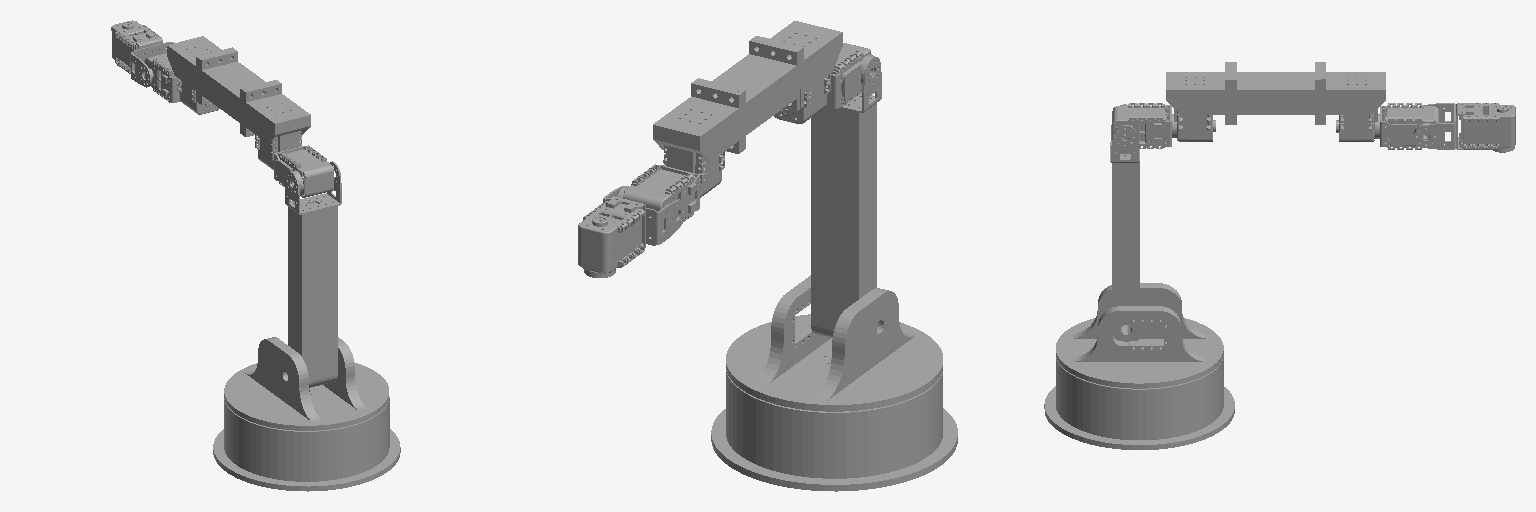
--- Render facts (derived) ---
3 views of the same robot in one strip: view 1: azimuth 30°, elevation 25°; view 2: azimuth 150°, elevation 25°; view 3: azimuth 270°, elevation 25° (orthographic).
Robot: mvp_arm_v2_sim — 23 links, 22 joints (7 continuous, 15 fixed); root link base_link; default pose: every joint at zero.
Links seen in each view (by area): view 1: base_link, Rotating_Base__1___1__1, Arm_segment_2_1, Arm_Segment_80mm__1__1, Elbow_Connector__1__1, AX-12A_Servo_4_1, Wrist_Connector__1__1, f2Bracket__1__2, AX-12A_Servo_1, AX-12A_Servo_5_1, f2Bracket__1___1__1, AX-12A_Servo_2_1 (+1 smaller); view 2: base_link, Rotating_Base__1___1__1, Arm_segment_2_1, Arm_Segment_80mm__1__1, Wrist_Connector__1__1, AX-12A_Servo_1, Elbow_Connector__1__1, AX-12A_Servo_2_1, AX-12A_Servo_3_1, f2Bracket__1___1__1, AX-12A_Servo_4_1, f2Bracket__1__2 (+1 smaller); view 3: Rotating_Base__1___1__1, base_link, Arm_segment_2_1, Arm_Segment_80mm__1__1, Elbow_Connector__1__1, Wrist_Connector__1__1, AX-12A_Servo_1, AX-12A_Servo_4_1, AX-12A_Servo_2_1, f2Bracket__1___1__1, AX-12A_Servo_3_1, AX-12A_Servo_5_1 (+1 smaller).
Boxes of the visible links, <box> form: base_link: <box>213,397,400,491</box>; Rotating_Base__1___1__1: <box>224,337,388,430</box>; Arm_segment_2_1: <box>288,202,337,387</box>; Arm_Segment_80mm__1__1: <box>199,50,278,134</box>; Elbow_Connector__1__1: <box>243,82,310,142</box>; AX-12A_Servo_4_1: <box>277,145,333,197</box>; Wrist_Connector__1__1: <box>167,36,234,102</box>; f2Bracket__1__2: <box>285,161,341,214</box>; AX-12A_Servo_1: <box>111,20,161,73</box>; AX-12A_Servo_5_1: <box>255,131,301,169</box>; f2Bracket__1___1__1: <box>130,42,173,87</box>; AX-12A_Servo_2_1: <box>145,53,175,102</box>; base_link: <box>711,370,957,491</box>; Rotating_Base__1___1__1: <box>726,275,942,411</box>; Arm_segment_2_1: <box>811,103,876,337</box>; Arm_Segment_80mm__1__1: <box>695,38,800,151</box>; Wrist_Connector__1__1: <box>653,81,742,161</box>; AX-12A_Servo_1: <box>578,199,644,273</box>; Elbow_Connector__1__1: <box>754,21,842,108</box>; AX-12A_Servo_2_1: <box>623,164,696,230</box>; AX-12A_Servo_3_1: <box>663,145,725,197</box>; f2Bracket__1___1__1: <box>603,186,685,245</box>; AX-12A_Servo_4_1: <box>831,43,872,108</box>; f2Bracket__1__2: <box>840,56,881,112</box>; Rotating_Base__1___1__1: <box>1056,283,1223,388</box>; base_link: <box>1044,356,1234,449</box>; Arm_segment_2_1: <box>1112,162,1139,341</box>; Arm_Segment_80mm__1__1: <box>1231,62,1320,124</box>; Elbow_Connector__1__1: <box>1166,62,1230,124</box>; Wrist_Connector__1__1: <box>1321,62,1385,124</box>; AX-12A_Servo_1: <box>1459,103,1515,149</box>; AX-12A_Servo_4_1: <box>1112,103,1168,148</box>; AX-12A_Servo_2_1: <box>1383,103,1438,149</box>; f2Bracket__1___1__1: <box>1414,103,1455,149</box>; AX-12A_Servo_3_1: <box>1336,108,1377,141</box>; AX-12A_Servo_5_1: <box>1174,109,1215,141</box>.
Size in the robot's own frame: 0.17 by 0.42 by 0.3336 metres.
23 mesh visuals loaded from 23 distinct referenced files (23 binary STL).

URDF robot description (mvp_arm_v2_sim):
<?xml version="1.0" encoding="utf-8"?>
<!-- =================================================================================== -->
<!-- |    This document was autogenerated by xacro from mvp_arm_v2_sim.xacro           | -->
<!-- |    EDITING THIS FILE BY HAND IS NOT RECOMMENDED                                 | -->
<!-- =================================================================================== -->
<robot name="mvp_arm_v2_sim">
  <material name="silver">
    <color rgba="0.700 0.700 0.700 1.000"/>
  </material>
  <transmission name="Rev7_tran">
    <type>transmission_interface/SimpleTransmission</type>
    <joint name="Rev7">
      <hardwareInterface>hardware_interface/EffortJointInterface</hardwareInterface>
    </joint>
    <actuator name="Rev7_actr">
      <hardwareInterface>hardware_interface/EffortJointInterface</hardwareInterface>
      <mechanicalReduction>1</mechanicalReduction>
    </actuator>
  </transmission>
  <transmission name="Rev6_tran">
    <type>transmission_interface/SimpleTransmission</type>
    <joint name="Rev6">
      <hardwareInterface>hardware_interface/EffortJointInterface</hardwareInterface>
    </joint>
    <actuator name="Rev6_actr">
      <hardwareInterface>hardware_interface/EffortJointInterface</hardwareInterface>
      <mechanicalReduction>1</mechanicalReduction>
    </actuator>
  </transmission>
  <transmission name="Rev5_tran">
    <type>transmission_interface/SimpleTransmission</type>
    <joint name="Rev5">
      <hardwareInterface>hardware_interface/EffortJointInterface</hardwareInterface>
    </joint>
    <actuator name="Rev5_actr">
      <hardwareInterface>hardware_interface/EffortJointInterface</hardwareInterface>
      <mechanicalReduction>1</mechanicalReduction>
    </actuator>
  </transmission>
  <transmission name="Rev4_tran">
    <type>transmission_interface/SimpleTransmission</type>
    <joint name="Rev4">
      <hardwareInterface>hardware_interface/EffortJointInterface</hardwareInterface>
    </joint>
    <actuator name="Rev4_actr">
      <hardwareInterface>hardware_interface/EffortJointInterface</hardwareInterface>
      <mechanicalReduction>1</mechanicalReduction>
    </actuator>
  </transmission>
  <transmission name="Rev3_tran">
    <type>transmission_interface/SimpleTransmission</type>
    <joint name="Rev3">
      <hardwareInterface>hardware_interface/EffortJointInterface</hardwareInterface>
    </joint>
    <actuator name="Rev3_actr">
      <hardwareInterface>hardware_interface/EffortJointInterface</hardwareInterface>
      <mechanicalReduction>1</mechanicalReduction>
    </actuator>
  </transmission>
  <transmission name="Rev2_tran">
    <type>transmission_interface/SimpleTransmission</type>
    <joint name="Rev2">
      <hardwareInterface>hardware_interface/EffortJointInterface</hardwareInterface>
    </joint>
    <actuator name="Rev2_actr">
      <hardwareInterface>hardware_interface/EffortJointInterface</hardwareInterface>
      <mechanicalReduction>1</mechanicalReduction>
    </actuator>
  </transmission>
  <transmission name="Rev1_tran">
    <type>transmission_interface/SimpleTransmission</type>
    <joint name="Rev1">
      <hardwareInterface>hardware_interface/EffortJointInterface</hardwareInterface>
    </joint>
    <actuator name="Rev1_actr">
      <hardwareInterface>hardware_interface/EffortJointInterface</hardwareInterface>
      <mechanicalReduction>1</mechanicalReduction>
    </actuator>
  </transmission>
  <gazebo>
    <plugin filename="libgazebo_ros_control.so" name="control"/>
  </gazebo>
  <gazebo reference="base_link">
    <material>Gazebo/Silver</material>
    <mu1>0.2</mu1>
    <mu2>0.2</mu2>
    <selfCollide>true</selfCollide>
    <gravity>true</gravity>
  </gazebo>
  <gazebo reference="Spinny_Thing_On_Servo_1">
    <material>Gazebo/Silver</material>
    <mu1>0.2</mu1>
    <mu2>0.2</mu2>
    <selfCollide>true</selfCollide>
  </gazebo>
  <gazebo reference="AX-12A_Servo_1">
    <material>Gazebo/Silver</material>
    <mu1>0.2</mu1>
    <mu2>0.2</mu2>
    <selfCollide>true</selfCollide>
  </gazebo>
  <gazebo reference="Spinny_Thing_On_Servo_2_1">
    <material>Gazebo/Silver</material>
    <mu1>0.2</mu1>
    <mu2>0.2</mu2>
    <selfCollide>true</selfCollide>
  </gazebo>
  <gazebo reference="AX-12A_Servo_2_1">
    <material>Gazebo/Silver</material>
    <mu1>0.2</mu1>
    <mu2>0.2</mu2>
    <selfCollide>true</selfCollide>
  </gazebo>
  <gazebo reference="AX-12A_Servo_3_1">
    <material>Gazebo/Silver</material>
    <mu1>0.2</mu1>
    <mu2>0.2</mu2>
    <selfCollide>true</selfCollide>
  </gazebo>
  <gazebo reference="Spinny_Thing_On_Servo_3_1">
    <material>Gazebo/Silver</material>
    <mu1>0.2</mu1>
    <mu2>0.2</mu2>
    <selfCollide>true</selfCollide>
  </gazebo>
  <gazebo reference="Bottom_Connector__1__1">
    <material>Gazebo/Silver</material>
    <mu1>0.2</mu1>
    <mu2>0.2</mu2>
    <selfCollide>true</selfCollide>
  </gazebo>
  <gazebo reference="AX-12A_Servo_5_1">
    <material>Gazebo/Silver</material>
    <mu1>0.2</mu1>
    <mu2>0.2</mu2>
    <selfCollide>true</selfCollide>
  </gazebo>
  <gazebo reference="Bottom_Connector__2__1">
    <material>Gazebo/Silver</material>
    <mu1>0.2</mu1>
    <mu2>0.2</mu2>
    <selfCollide>true</selfCollide>
  </gazebo>
  <gazebo reference="Spinny_Thing_On_Servo_5_1">
    <material>Gazebo/Silver</material>
    <mu1>0.2</mu1>
    <mu2>0.2</mu2>
    <selfCollide>true</selfCollide>
  </gazebo>
  <gazebo reference="AX-12A_Servo_4_1">
    <material>Gazebo/Silver</material>
    <mu1>0.2</mu1>
    <mu2>0.2</mu2>
    <selfCollide>true</selfCollide>
  </gazebo>
  <gazebo reference="Bottom_Connector_Bracket_4_1">
    <material>Gazebo/Silver</material>
    <mu1>0.2</mu1>
    <mu2>0.2</mu2>
    <selfCollide>true</selfCollide>
  </gazebo>
  <gazebo reference="Wrist_Connector__1__1">
    <material>Gazebo/Silver</material>
    <mu1>0.2</mu1>
    <mu2>0.2</mu2>
    <selfCollide>true</selfCollide>
  </gazebo>
  <gazebo reference="Arm_Segment_80mm__1__1">
    <material>Gazebo/Silver</material>
    <mu1>0.2</mu1>
    <mu2>0.2</mu2>
    <selfCollide>true</selfCollide>
  </gazebo>
  <gazebo reference="Bottom_Connector_Bracket_3_1">
    <material>Gazebo/Silver</material>
    <mu1>0.2</mu1>
    <mu2>0.2</mu2>
    <selfCollide>true</selfCollide>
  </gazebo>
  <gazebo reference="Elbow_Connector__1__1">
    <material>Gazebo/Silver</material>
    <mu1>0.2</mu1>
    <mu2>0.2</mu2>
    <selfCollide>true</selfCollide>
  </gazebo>
  <gazebo reference="Spinny_Thing_On_Servo_4_1">
    <material>Gazebo/Silver</material>
    <mu1>0.2</mu1>
    <mu2>0.2</mu2>
    <selfCollide>true</selfCollide>
  </gazebo>
  <gazebo reference="f2Bracket__1__2">
    <material>Gazebo/Silver</material>
    <mu1>0.2</mu1>
    <mu2>0.2</mu2>
    <selfCollide>true</selfCollide>
  </gazebo>
  <gazebo reference="Arm_segment_2_1">
    <material>Gazebo/Silver</material>
    <mu1>0.2</mu1>
    <mu2>0.2</mu2>
    <selfCollide>true</selfCollide>
  </gazebo>
  <gazebo reference="Rotating_Base__1___1__1">
    <material>Gazebo/Silver</material>
    <mu1>0.2</mu1>
    <mu2>0.2</mu2>
    <selfCollide>true</selfCollide>
  </gazebo>
  <gazebo reference="f2Bracket__1___1__1">
    <material>Gazebo/Silver</material>
    <mu1>0.2</mu1>
    <mu2>0.2</mu2>
    <selfCollide>true</selfCollide>
  </gazebo>
  <gazebo reference="Bottom_Connector_1">
    <material>Gazebo/Silver</material>
    <mu1>0.2</mu1>
    <mu2>0.2</mu2>
    <selfCollide>true</selfCollide>
  </gazebo>
  <link name="base_link">
    <inertial>
      <origin rpy="0 0 0" xyz="0.003139221237424357 0.007112092878934391 0.09744651147654458"/>
      <mass value="0.2255222028913783"/>
      <inertia ixx="0.000624" ixy="0.0" ixz="0.0" iyy="0.000615" iyz="1e-06" izz="0.001121"/>
    </inertial>
    <visual>
      <origin rpy="0 0 0" xyz="0 0 0"/>
      <geometry>
        <mesh filename="package://mvp_arm_v2_sim_description/meshes/base_link.stl" scale="0.001 0.001 0.001"/>
      </geometry>
      <material name="silver"/>
    </visual>
    <collision>
      <origin rpy="0 0 0" xyz="0 0 0"/>
      <geometry>
        <mesh filename="package://mvp_arm_v2_sim_description/meshes/base_link.stl" scale="0.001 0.001 0.001"/>
      </geometry>
    </collision>
  </link>
  <link name="Spinny_Thing_On_Servo_1">
    <inertial>
      <origin rpy="0 0 0" xyz="2.010053463885565e-05 -1.259502991068917e-06 -0.002248960573131231"/>
      <mass value="0.012286224598738087"/>
      <inertia ixx="0.0" ixy="-0.0" ixz="-0.0" iyy="0.0" iyz="0.0" izz="1e-06"/>
    </inertial>
    <visual>
      <origin rpy="0 0 0" xyz="-0.003026 -0.329964 -0.337601"/>
      <geometry>
        <mesh filename="package://mvp_arm_v2_sim_description/meshes/Spinny_Thing_On_Servo_1.stl" scale="0.001 0.001 0.001"/>
      </geometry>
      <material name="silver"/>
    </visual>
    <collision>
      <origin rpy="0 0 0" xyz="-0.003026 -0.329964 -0.337601"/>
      <geometry>
        <mesh filename="package://mvp_arm_v2_sim_description/meshes/Spinny_Thing_On_Servo_1.stl" scale="0.001 0.001 0.001"/>
      </geometry>
    </collision>
  </link>
  <link name="AX-12A_Servo_1">
    <inertial>
      <origin rpy="0 0 0" xyz="-0.006844397716463661 0.019372363950331595 -0.017899908655313768"/>
      <mass value="0.32411536495008075"/>
      <inertia ixx="9.1e-05" ixy="0.0" ixz="0.0" iyy="5e-05" iyz="-1e-06" izz="7.9e-05"/>
    </inertial>
    <visual>
      <origin rpy="0 0 0" xyz="-0.009733 -0.297485 -0.371223"/>
      <geometry>
        <mesh filename="package://mvp_arm_v2_sim_description/meshes/AX-12A_Servo_1.stl" scale="0.001 0.001 0.001"/>
      </geometry>
      <material name="silver"/>
    </visual>
    <collision>
      <origin rpy="0 0 0" xyz="-0.009733 -0.297485 -0.371223"/>
      <geometry>
        <mesh filename="package://mvp_arm_v2_sim_description/meshes/AX-12A_Servo_1.stl" scale="0.001 0.001 0.001"/>
      </geometry>
    </collision>
  </link>
  <link name="Spinny_Thing_On_Servo_2_1">
    <inertial>
      <origin rpy="0 0 0" xyz="0.002248723852282898 1.0899252977925045e-07 1.9672056998709664e-05"/>
      <mass value="0.012286224598738087"/>
      <inertia ixx="1e-06" ixy="0.0" ixz="0.0" iyy="0.0" iyz="0.0" izz="0.0"/>
    </inertial>
    <visual>
      <origin rpy="0 0 0" xyz="-0.019384 -0.261974 -0.354035"/>
      <geometry>
        <mesh filename="package://mvp_arm_v2_sim_description/meshes/Spinny_Thing_On_Servo_2_1.stl" scale="0.001 0.001 0.001"/>
      </geometry>
      <material name="silver"/>
    </visual>
    <collision>
      <origin rpy="0 0 0" xyz="-0.019384 -0.261974 -0.354035"/>
      <geometry>
        <mesh filename="package://mvp_arm_v2_sim_description/meshes/Spinny_Thing_On_Servo_2_1.stl" scale="0.001 0.001 0.001"/>
      </geometry>
    </collision>
  </link>
  <link name="AX-12A_Servo_2_1">
    <inertial>
      <origin rpy="0 0 0" xyz="-0.015394349743787807 0.022878705562556806 -0.00814884451855008"/>
      <mass value="0.32411536495008075"/>
      <inertia ixx="7.9e-05" ixy="2e-06" ixz="-0.0" iyy="5e-05" iyz="0.0" izz="9.1e-05"/>
    </inertial>
    <visual>
      <origin rpy="0 0 0" xyz="-0.019064 -0.225979 -0.362054"/>
      <geometry>
        <mesh filename="package://mvp_arm_v2_sim_description/meshes/AX-12A_Servo_2_1.stl" scale="0.001 0.001 0.001"/>
      </geometry>
      <material name="silver"/>
    </visual>
    <collision>
      <origin rpy="0 0 0" xyz="-0.019064 -0.225979 -0.362054"/>
      <geometry>
        <mesh filename="package://mvp_arm_v2_sim_description/meshes/AX-12A_Servo_2_1.stl" scale="0.001 0.001 0.001"/>
      </geometry>
    </collision>
  </link>
  <link name="AX-12A_Servo_3_1">
    <inertial>
      <origin rpy="0 0 0" xyz="0.008692941406935287 -0.016872496794597514 -0.01929838841732684"/>
      <mass value="0.32411536495008075"/>
      <inertia ixx="9.1e-05" ixy="0.0" ixz="0.0" iyy="7.9e-05" iyz="-2e-06" izz="5e-05"/>
    </inertial>
    <visual>
      <origin rpy="0 0 0" xyz="0.005672 -0.21714 -0.386345"/>
      <geometry>
        <mesh filename="package://mvp_arm_v2_sim_description/meshes/AX-12A_Servo_3_1.stl" scale="0.001 0.001 0.001"/>
      </geometry>
      <material name="silver"/>
    </visual>
    <collision>
      <origin rpy="0 0 0" xyz="0.005672 -0.21714 -0.386345"/>
      <geometry>
        <mesh filename="package://mvp_arm_v2_sim_description/meshes/AX-12A_Servo_3_1.stl" scale="0.001 0.001 0.001"/>
      </geometry>
    </collision>
  </link>
  <link name="Spinny_Thing_On_Servo_3_1">
    <inertial>
      <origin rpy="0 0 0" xyz="-3.354762194564091e-07 0.0022492825643248837 -1.1344660777456994e-06"/>
      <mass value="0.012286224598738087"/>
      <inertia ixx="0.0" ixy="-0.0" ixz="0.0" iyy="1e-06" iyz="-0.0" izz="0.0"/>
    </inertial>
    <visual>
      <origin rpy="0 0 0" xyz="-0.003135 -0.215974 -0.353921"/>
      <geometry>
        <mesh filename="package://mvp_arm_v2_sim_description/meshes/Spinny_Thing_On_Servo_3_1.stl" scale="0.001 0.001 0.001"/>
      </geometry>
      <material name="silver"/>
    </visual>
    <collision>
      <origin rpy="0 0 0" xyz="-0.003135 -0.215974 -0.353921"/>
      <geometry>
        <mesh filename="package://mvp_arm_v2_sim_description/meshes/Spinny_Thing_On_Servo_3_1.stl" scale="0.001 0.001 0.001"/>
      </geometry>
    </collision>
  </link>
  <link name="Bottom_Connector__1__1">
    <inertial>
      <origin rpy="0 0 0" xyz="0.007999664523551065 0.0018414055268290708 6.837536046383486e-05"/>
      <mass value="0.0016262220015435807"/>
      <inertia ixx="0.0" ixy="-0.0" ixz="-0.0" iyy="0.0" iyz="-0.0" izz="0.0"/>
    </inertial>
    <visual>
      <origin rpy="0 0 0" xyz="0.004865 -0.220474 -0.353849"/>
      <geometry>
        <mesh filename="package://mvp_arm_v2_sim_description/meshes/Bottom_Connector__1__1.stl" scale="0.001 0.001 0.001"/>
      </geometry>
      <material name="silver"/>
    </visual>
    <collision>
      <origin rpy="0 0 0" xyz="0.004865 -0.220474 -0.353849"/>
      <geometry>
        <mesh filename="package://mvp_arm_v2_sim_description/meshes/Bottom_Connector__1__1.stl" scale="0.001 0.001 0.001"/>
      </geometry>
    </collision>
  </link>
  <link name="AX-12A_Servo_5_1">
    <inertial>
      <origin rpy="0 0 0" xyz="-2.5065005857449404e-07 0.01572277873113477 0.013106537518999761"/>
      <mass value="0.32411536495008075"/>
      <inertia ixx="9.1e-05" ixy="-0.0" ixz="-0.0" iyy="7.9e-05" iyz="1e-06" izz="5e-05"/>
    </inertial>
    <visual>
      <origin rpy="0 0 0" xyz="-0.002332 -0.039577 -0.354023"/>
      <geometry>
        <mesh filename="package://mvp_arm_v2_sim_description/meshes/AX-12A_Servo_5_1.stl" scale="0.001 0.001 0.001"/>
      </geometry>
      <material name="silver"/>
    </visual>
    <collision>
      <origin rpy="0 0 0" xyz="-0.002332 -0.039577 -0.354023"/>
      <geometry>
        <mesh filename="package://mvp_arm_v2_sim_description/meshes/AX-12A_Servo_5_1.stl" scale="0.001 0.001 0.001"/>
      </geometry>
    </collision>
  </link>
  <link name="Bottom_Connector__2__1">
    <inertial>
      <origin rpy="0 0 0" xyz="0.008000486205254101 0.016001930051550324 0.003648509599558425"/>
      <mass value="0.0016262220015435807"/>
      <inertia ixx="0.0" ixy="0.0" ixz="-0.0" iyy="0.0" iyz="0.0" izz="0.0"/>
    </inertial>
    <visual>
      <origin rpy="0 0 0" xyz="0.005668 -0.039849 -0.390023"/>
      <geometry>
        <mesh filename="package://mvp_arm_v2_sim_description/meshes/Bottom_Connector__2__1.stl" scale="0.001 0.001 0.001"/>
      </geometry>
      <material name="silver"/>
    </visual>
    <collision>
      <origin rpy="0 0 0" xyz="0.005668 -0.039849 -0.390023"/>
      <geometry>
        <mesh filename="package://mvp_arm_v2_sim_description/meshes/Bottom_Connector__2__1.stl" scale="0.001 0.001 0.001"/>
      </geometry>
    </collision>
  </link>
  <link name="Spinny_Thing_On_Servo_5_1">
    <inertial>
      <origin rpy="0 0 0" xyz="4.862052316962837e-07 0.002256036378218064 0.007998161392409109"/>
      <mass value="0.012286224598738087"/>
      <inertia ixx="0.0" ixy="-0.0" ixz="-0.0" iyy="1e-06" iyz="-0.0" izz="0.0"/>
    </inertial>
    <visual>
      <origin rpy="0 0 0" xyz="-0.002332 -0.035072 -0.346026"/>
      <geometry>
        <mesh filename="package://mvp_arm_v2_sim_description/meshes/Spinny_Thing_On_Servo_5_1.stl" scale="0.001 0.001 0.001"/>
      </geometry>
      <material name="silver"/>
    </visual>
    <collision>
      <origin rpy="0 0 0" xyz="-0.002332 -0.035072 -0.346026"/>
      <geometry>
        <mesh filename="package://mvp_arm_v2_sim_description/meshes/Spinny_Thing_On_Servo_5_1.stl" scale="0.001 0.001 0.001"/>
      </geometry>
    </collision>
  </link>
  <link name="AX-12A_Servo_4_1">
    <inertial>
      <origin rpy="0 0 0" xyz="0.015714221557267063 0.013116615324266908 -8.933544773326307e-06"/>
      <mass value="0.32411536495008075"/>
      <inertia ixx="7.9e-05" ixy="2e-06" ixz="-0.0" iyy="5e-05" iyz="0.0" izz="9.1e-05"/>
    </inertial>
    <visual>
      <origin rpy="0 0 0" xyz="0.01386 0.006423 -0.354051"/>
      <geometry>
        <mesh filename="package://mvp_arm_v2_sim_description/meshes/AX-12A_Servo_4_1.stl" scale="0.001 0.001 0.001"/>
      </geometry>
      <material name="silver"/>
    </visual>
    <collision>
      <origin rpy="0 0 0" xyz="0.01386 0.006423 -0.354051"/>
      <geometry>
        <mesh filename="package://mvp_arm_v2_sim_description/meshes/AX-12A_Servo_4_1.stl" scale="0.001 0.001 0.001"/>
      </geometry>
    </collision>
  </link>
  <link name="Bottom_Connector_Bracket_4_1">
    <inertial>
      <origin rpy="0 0 0" xyz="-0.01599951379473832 0.003663913415711831 0.00799765156585941"/>
      <mass value="0.0016262220015435807"/>
      <inertia ixx="0.0" ixy="-0.0" ixz="-0.0" iyy="0.0" iyz="-0.0" izz="0.0"/>
    </inertial>
    <visual>
      <origin rpy="0 0 0" xyz="-0.018332 -0.029572 -0.346029"/>
      <geometry>
        <mesh filename="package://mvp_arm_v2_sim_description/meshes/Bottom_Connector_Bracket_4_1.stl" scale="0.001 0.001 0.001"/>
      </geometry>
      <material name="silver"/>
    </visual>
    <collision>
      <origin rpy="0 0 0" xyz="-0.018332 -0.029572 -0.346029"/>
      <geometry>
        <mesh filename="package://mvp_arm_v2_sim_description/meshes/Bottom_Connector_Bracket_4_1.stl" scale="0.001 0.001 0.001"/>
      </geometry>
    </collision>
  </link>
  <link name="Wrist_Connector__1__1">
    <inertial>
      <origin rpy="0 0 0" xyz="-1.4193676218165249e-05 0.020451062703479406 0.001669458393851686"/>
      <mass value="0.24638999063533176"/>
      <inertia ixx="9.9e-05" ixy="0.0" ixz="-0.0" iyy="6e-05" iyz="-8e-06" izz="0.000118"/>
    </inertial>
    <visual>
      <origin rpy="0 0 0" xyz="-0.002332 -0.167846 -0.385945"/>
      <geometry>
        <mesh filename="package://mvp_arm_v2_sim_description/meshes/Wrist_Connector__1__1.stl" scale="0.001 0.001 0.001"/>
      </geometry>
      <material name="silver"/>
    </visual>
    <collision>
      <origin rpy="0 0 0" xyz="-0.002332 -0.167846 -0.385945"/>
      <geometry>
        <mesh filename="package://mvp_arm_v2_sim_description/meshes/Wrist_Connector__1__1.stl" scale="0.001 0.001 0.001"/>
      </geometry>
    </collision>
  </link>
  <link name="Arm_Segment_80mm__1__1">
    <inertial>
      <origin rpy="0 0 0" xyz="4.861124078213951e-07 0.040000256660945824 -2.3913742601855414e-05"/>
      <mass value="0.6503411791785553"/>
      <inertia ixx="0.000442" ixy="-0.0" ixz="-0.0" iyy="0.000126" iyz="0.0" izz="0.000472"/>
    </inertial>
    <visual>
      <origin rpy="0 0 0" xyz="-0.002332 -0.087846 -0.385993"/>
      <geometry>
        <mesh filename="package://mvp_arm_v2_sim_description/meshes/Arm_Segment_80mm__1__1.stl" scale="0.001 0.001 0.001"/>
      </geometry>
      <material name="silver"/>
    </visual>
    <collision>
      <origin rpy="0 0 0" xyz="-0.002332 -0.087846 -0.385993"/>
      <geometry>
        <mesh filename="package://mvp_arm_v2_sim_description/meshes/Arm_Segment_80mm__1__1.stl" scale="0.001 0.001 0.001"/>
      </geometry>
    </collision>
  </link>
  <link name="Bottom_Connector_Bracket_3_1">
    <inertial>
      <origin rpy="0 0 0" xyz="0.008015653129645035 -0.008001096220477677 -0.0017664080467950094"/>
      <mass value="0.0016262220015435807"/>
      <inertia ixx="0.0" ixy="-0.0" ixz="-0.0" iyy="0.0" iyz="0.0" izz="0.0"/>
    </inertial>
    <visual>
      <origin rpy="0 0 0" xyz="0.00575 -0.207852 -0.39535"/>
      <geometry>
        <mesh filename="package://mvp_arm_v2_sim_description/meshes/Bottom_Connector_Bracket_3_1.stl" scale="0.001 0.001 0.001"/>
      </geometry>
      <material name="silver"/>
    </visual>
    <collision>
      <origin rpy="0 0 0" xyz="0.00575 -0.207852 -0.39535"/>
      <geometry>
        <mesh filename="package://mvp_arm_v2_sim_description/meshes/Bottom_Connector_Bracket_3_1.stl" scale="0.001 0.001 0.001"/>
      </geometry>
    </collision>
  </link>
  <link name="Elbow_Connector__1__1">
    <inertial>
      <origin rpy="0 0 0" xyz="4.854072580360441e-07 0.01954555339504626 -0.007829917675297227"/>
      <mass value="0.24639014270019174"/>
      <inertia ixx="9.9e-05" ixy="0.0" ixz="-0.0" iyy="6e-05" iyz="8e-06" izz="0.000118"/>
    </inertial>
    <visual>
      <origin rpy="0 0 0" xyz="-0.002332 -0.047852 -0.395518"/>
      <geometry>
        <mesh filename="package://mvp_arm_v2_sim_description/meshes/Elbow_Connector__1__1.stl" scale="0.001 0.001 0.001"/>
      </geometry>
      <material name="silver"/>
    </visual>
    <collision>
      <origin rpy="0 0 0" xyz="-0.002332 -0.047852 -0.395518"/>
      <geometry>
        <mesh filename="package://mvp_arm_v2_sim_description/meshes/Elbow_Connector__1__1.stl" scale="0.001 0.001 0.001"/>
      </geometry>
    </collision>
  </link>
  <link name="Spinny_Thing_On_Servo_4_1">
    <inertial>
      <origin rpy="0 0 0" xyz="0.002250457525271629 0.00800030818575853 -5.215042616468768e-06"/>
      <mass value="0.012286224598738087"/>
      <inertia ixx="1e-06" ixy="0.0" ixz="0.0" iyy="0.0" iyz="-0.0" izz="0.0"/>
    </inertial>
    <visual>
      <origin rpy="0 0 0" xyz="0.01836 0.014423 -0.354056"/>
      <geometry>
        <mesh filename="package://mvp_arm_v2_sim_description/meshes/Spinny_Thing_On_Servo_4_1.stl" scale="0.001 0.001 0.001"/>
      </geometry>
      <material name="silver"/>
    </visual>
    <collision>
      <origin rpy="0 0 0" xyz="0.01836 0.014423 -0.354056"/>
      <geometry>
        <mesh filename="package://mvp_arm_v2_sim_description/meshes/Spinny_Thing_On_Servo_4_1.stl" scale="0.001 0.001 0.001"/>
      </geometry>
    </collision>
  </link>
  <link name="f2Bracket__1__2">
    <inertial>
      <origin rpy="0 0 0" xyz="2.2123218426130242e-07 -0.01349497011844943 0.010253562328138288"/>
      <mass value="0.0037556666472927302"/>
      <inertia ixx="1e-06" ixy="-0.0" ixz="0.0" iyy="2e-06" iyz="-0.0" izz="1e-06"/>
    </inertial>
    <visual>
      <origin rpy="0 0 0" xyz="-0.002639 -0.007061 -0.327543"/>
      <geometry>
        <mesh filename="package://mvp_arm_v2_sim_description/meshes/f2Bracket__1__2.stl" scale="0.001 0.001 0.001"/>
      </geometry>
      <material name="silver"/>
    </visual>
    <collision>
      <origin rpy="0 0 0" xyz="-0.002639 -0.007061 -0.327543"/>
      <geometry>
        <mesh filename="package://mvp_arm_v2_sim_description/meshes/f2Bracket__1__2.stl" scale="0.001 0.001 0.001"/>
      </geometry>
    </collision>
  </link>
  <link name="Arm_segment_2_1">
    <inertial>
      <origin rpy="0 0 0" xyz="0.019000221232186202 4.675663709389783e-05 0.07720582991353392"/>
      <mass value="0.21463602179697447"/>
      <inertia ixx="0.000568" ixy="-0.0" ixz="0.0" iyy="0.000582" iyz="-0.0" izz="3.7e-05"/>
    </inertial>
    <visual>
      <origin rpy="0 0 0" xyz="0.016361 0.005539 -0.16255"/>
      <geometry>
        <mesh filename="package://mvp_arm_v2_sim_description/meshes/Arm_segment_2_1.stl" scale="0.001 0.001 0.001"/>
      </geometry>
      <material name="silver"/>
    </visual>
    <collision>
      <origin rpy="0 0 0" xyz="0.016361 0.005539 -0.16255"/>
      <geometry>
        <mesh filename="package://mvp_arm_v2_sim_description/meshes/Arm_segment_2_1.stl" scale="0.001 0.001 0.001"/>
      </geometry>
    </collision>
  </link>
  <link name="Rotating_Base__1___1__1">
    <inertial>
      <origin rpy="0 0 0" xyz="-0.0016851816583102388 7.331635761464658e-05 0.01301663136886358"/>
      <mass value="0.1980303324276481"/>
      <inertia ixx="0.000259" ixy="0.0" ixz="6e-06" iyy="0.000259" iyz="-0.0" izz="0.00042"/>
    </inertial>
    <visual>
      <origin rpy="0 0 0" xyz="-0.003139 -0.006444 -0.130999"/>
      <geometry>
        <mesh filename="package://mvp_arm_v2_sim_description/meshes/Rotating_Base__1___1__1.stl" scale="0.001 0.001 0.001"/>
      </geometry>
      <material name="silver"/>
    </visual>
    <collision>
      <origin rpy="0 0 0" xyz="-0.003139 -0.006444 -0.130999"/>
      <geometry>
        <mesh filename="package://mvp_arm_v2_sim_description/meshes/Rotating_Base__1___1__1.stl" scale="0.001 0.001 0.001"/>
      </geometry>
    </collision>
  </link>
  <link name="f2Bracket__1___1__1">
    <inertial>
      <origin rpy="0 0 0" xyz="-0.020998313854940994 0.008254232058487798 -0.00018921791860893045"/>
      <mass value="0.0037556666472927302"/>
      <inertia ixx="1e-06" ixy="-0.0" ixz="-0.0" iyy="1e-06" iyz="0.0" izz="2e-06"/>
    </inertial>
    <visual>
      <origin rpy="0 0 0" xyz="-0.023883 -0.269974 -0.354069"/>
      <geometry>
        <mesh filename="package://mvp_arm_v2_sim_description/meshes/f2Bracket__1___1__1.stl" scale="0.001 0.001 0.001"/>
      </geometry>
      <material name="silver"/>
    </visual>
    <collision>
      <origin rpy="0 0 0" xyz="-0.023883 -0.269974 -0.354069"/>
      <geometry>
        <mesh filename="package://mvp_arm_v2_sim_description/meshes/f2Bracket__1___1__1.stl" scale="0.001 0.001 0.001"/>
      </geometry>
    </collision>
  </link>
  <link name="Bottom_Connector_1">
    <inertial>
      <origin rpy="0 0 0" xyz="-0.007930323167322334 0.0018363914140208104 -0.008070506274529043"/>
      <mass value="0.0016262220015435807"/>
      <inertia ixx="0.0" ixy="0.0" ixz="0.0" iyy="0.0" iyz="-0.0" izz="0.0"/>
    </inertial>
    <visual>
      <origin rpy="0 0 0" xyz="-0.010815 -0.288479 -0.361944"/>
      <geometry>
        <mesh filename="package://mvp_arm_v2_sim_description/meshes/Bottom_Connector_1.stl" scale="0.001 0.001 0.001"/>
      </geometry>
      <material name="silver"/>
    </visual>
    <collision>
      <origin rpy="0 0 0" xyz="-0.010815 -0.288479 -0.361944"/>
      <geometry>
        <mesh filename="package://mvp_arm_v2_sim_description/meshes/Bottom_Connector_1.stl" scale="0.001 0.001 0.001"/>
      </geometry>
    </collision>
  </link>
  <joint name="Rev7" type="continuous">
    <origin rpy="0 0 0" xyz="-0.006707 0.032479 -0.033622"/>
    <parent link="AX-12A_Servo_1"/>
    <child link="Spinny_Thing_On_Servo_1"/>
    <axis xyz="0.008727 -0.000609 -0.999962"/>
  </joint>
  <joint name="Rigid3" type="fixed">
    <origin rpy="0 0 0" xyz="-0.001082 0.009006 0.009279"/>
    <parent link="Bottom_Connector_1"/>
    <child link="AX-12A_Servo_1"/>
  </joint>
  <joint name="Rev6" type="continuous">
    <origin rpy="0 0 0" xyz="0.00032 0.035995 -0.008019"/>
    <parent link="AX-12A_Servo_2_1"/>
    <child link="Spinny_Thing_On_Servo_2_1"/>
    <axis xyz="-0.999962 -5e-06 -0.008727"/>
  </joint>
  <joint name="Rigid4" type="fixed">
    <origin rpy="0 0 0" xyz="0.023929 0.005505 0.008205"/>
    <parent link="Bottom_Connector__1__1"/>
    <child link="AX-12A_Servo_2_1"/>
  </joint>
  <joint name="Rigid5" type="fixed">
    <origin rpy="0 0 0" xyz="7.8e-05 0.009288 -0.009005"/>
    <parent link="Bottom_Connector_Bracket_3_1"/>
    <child link="AX-12A_Servo_3_1"/>
  </joint>
  <joint name="Rev5" type="continuous">
    <origin rpy="0 0 0" xyz="0.008807 -0.001166 -0.032424"/>
    <parent link="AX-12A_Servo_3_1"/>
    <child link="Spinny_Thing_On_Servo_3_1"/>
    <axis xyz="-0.0 1.0 -0.000609"/>
  </joint>
  <joint name="Rigid6" type="fixed">
    <origin rpy="0 0 0" xyz="-0.008 0.0045 -7.2e-05"/>
    <parent link="Spinny_Thing_On_Servo_3_1"/>
    <child link="Bottom_Connector__1__1"/>
  </joint>
  <joint name="Rev4" type="continuous">
    <origin rpy="0 0 0" xyz="0.0 0.004505 0.007997"/>
    <parent link="Spinny_Thing_On_Servo_5_1"/>
    <child link="AX-12A_Servo_5_1"/>
    <axis xyz="-0.0 1.0 -0.000609"/>
  </joint>
  <joint name="Rigid7" type="fixed">
    <origin rpy="0 0 0" xyz="-0.008 0.000272 0.036"/>
    <parent link="AX-12A_Servo_5_1"/>
    <child link="Bottom_Connector__2__1"/>
  </joint>
  <joint name="Rigid8" type="fixed">
    <origin rpy="0 0 0" xyz="-0.016 0.0055 -3e-06"/>
    <parent link="Bottom_Connector_Bracket_4_1"/>
    <child link="Spinny_Thing_On_Servo_5_1"/>
  </joint>
  <joint name="Rev3" type="continuous">
    <origin rpy="0 0 0" xyz="0.0045 0.008 -5e-06"/>
    <parent link="Spinny_Thing_On_Servo_4_1"/>
    <child link="AX-12A_Servo_4_1"/>
    <axis xyz="1.0 0.0 0.0"/>
  </joint>
  <joint name="Rigid9" type="fixed">
    <origin rpy="0 0 0" xyz="0.032192 0.035995 -0.008022"/>
    <parent link="AX-12A_Servo_4_1"/>
    <child link="Bottom_Connector_Bracket_4_1"/>
  </joint>
  <joint name="Rigid10" type="fixed">
    <origin rpy="0 0 0" xyz="0.0 0.08 -4.8e-05"/>
    <parent link="Arm_Segment_80mm__1__1"/>
    <child link="Wrist_Connector__1__1"/>
  </joint>
  <joint name="Rigid11" type="fixed">
    <origin rpy="0 0 0" xyz="0.0 0.039994 -0.009525"/>
    <parent link="Elbow_Connector__1__1"/>
    <child link="Arm_Segment_80mm__1__1"/>
  </joint>
  <joint name="Rigid12" type="fixed">
    <origin rpy="0 0 0" xyz="-0.008082 0.040006 0.009405"/>
    <parent link="Wrist_Connector__1__1"/>
    <child link="Bottom_Connector_Bracket_3_1"/>
  </joint>
  <joint name="Rigid13" type="fixed">
    <origin rpy="0 0 0" xyz="0.008 0.008003 0.005495"/>
    <parent link="Bottom_Connector__2__1"/>
    <child link="Elbow_Connector__1__1"/>
  </joint>
  <joint name="Rigid14" type="fixed">
    <origin rpy="0 0 0" xyz="-0.020999 -0.021484 0.026513"/>
    <parent link="f2Bracket__1__2"/>
    <child link="Spinny_Thing_On_Servo_4_1"/>
  </joint>
  <joint name="Rigid15" type="fixed">
    <origin rpy="0 0 0" xyz="0.019 0.0126 0.164993"/>
    <parent link="Arm_segment_2_1"/>
    <child link="f2Bracket__1__2"/>
  </joint>
  <joint name="Rev2" type="continuous">
    <origin rpy="0 0 0" xyz="-0.0195 -0.011983 0.031551"/>
    <parent link="Rotating_Base__1___1__1"/>
    <child link="Arm_segment_2_1"/>
    <axis xyz="-1.0 0.0 -0.0"/>
  </joint>
  <joint name="Rev1" type="continuous">
    <origin rpy="0 0 0" xyz="0.003139 0.006444 0.130999"/>
    <parent link="base_link"/>
    <child link="Rotating_Base__1___1__1"/>
    <axis xyz="0.0 -0.0 -1.0"/>
  </joint>
  <joint name="Rigid16" type="fixed">
    <origin rpy="0 0 0" xyz="0.004499 0.008 3.4e-05"/>
    <parent link="Spinny_Thing_On_Servo_2_1"/>
    <child link="f2Bracket__1___1__1"/>
  </joint>
  <joint name="Rigid17" type="fixed">
    <origin rpy="0 0 0" xyz="-0.013068 0.018505 0.007875"/>
    <parent link="f2Bracket__1___1__1"/>
    <child link="Bottom_Connector_1"/>
  </joint>
</robot>
